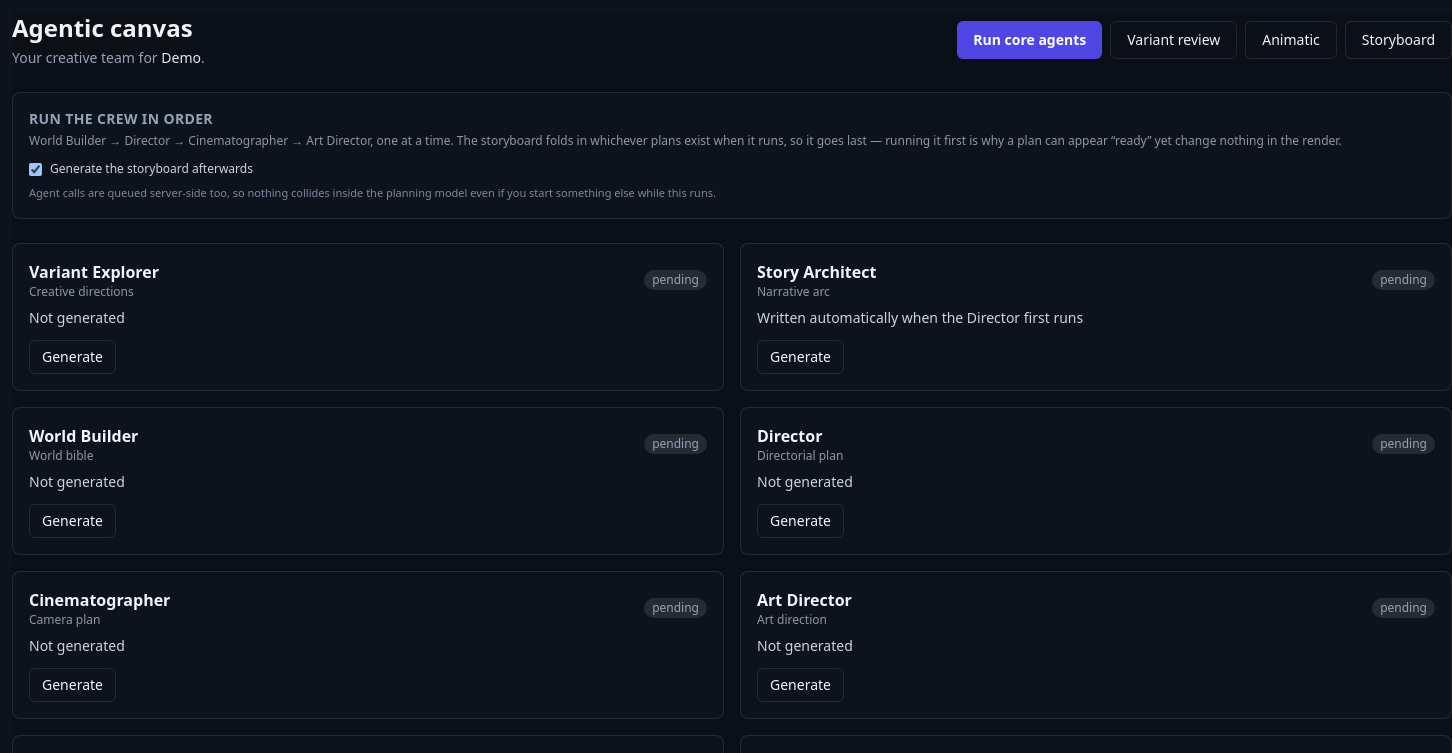
it: AgenticCanvas queue reconciliation › reports a cancelled run as a completion state
Step 1. Click the button "Run core agents" → click(1030, 40), box [957,21,1102,59]
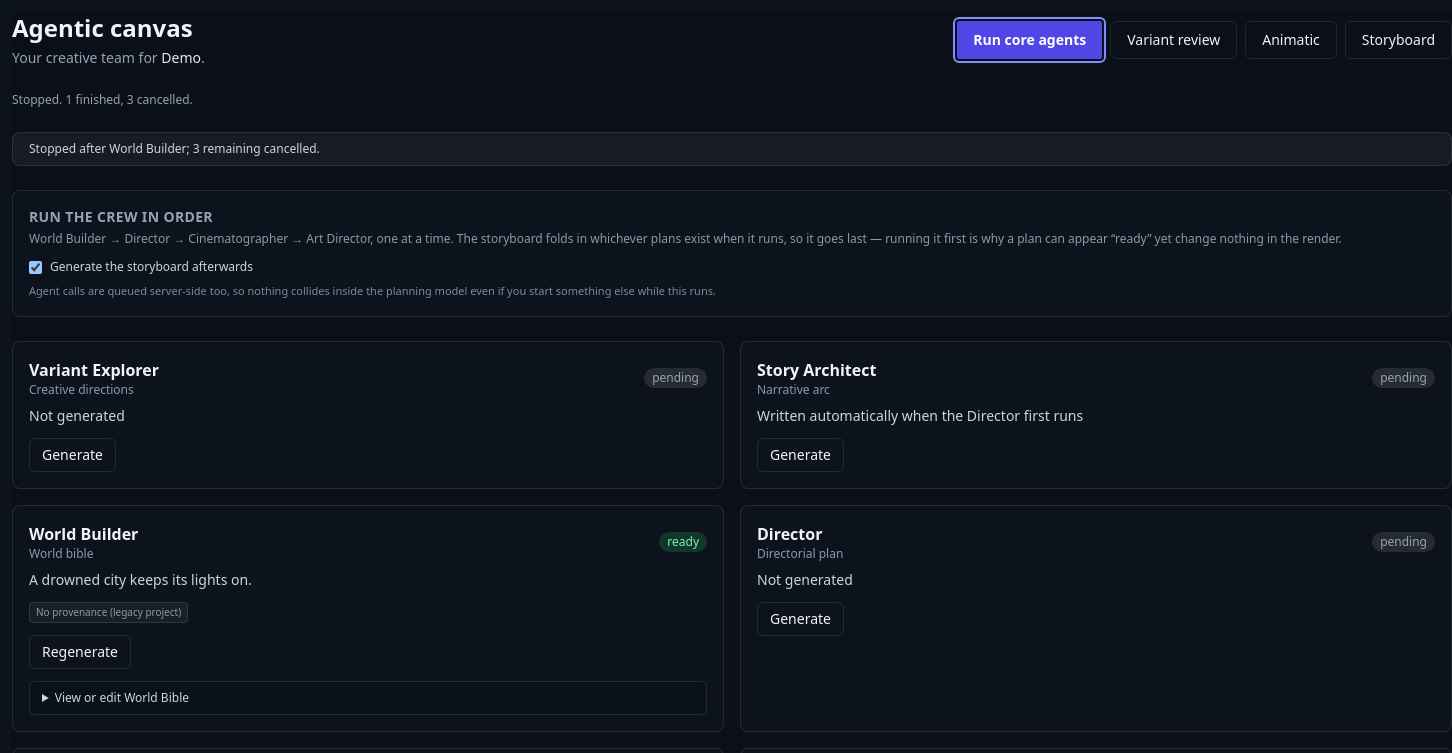
Expected: the text with test id "canvas-queue-complete" reads "Stopped after World Builder; 3 remaining cancelled.", [29,140,320,157]
